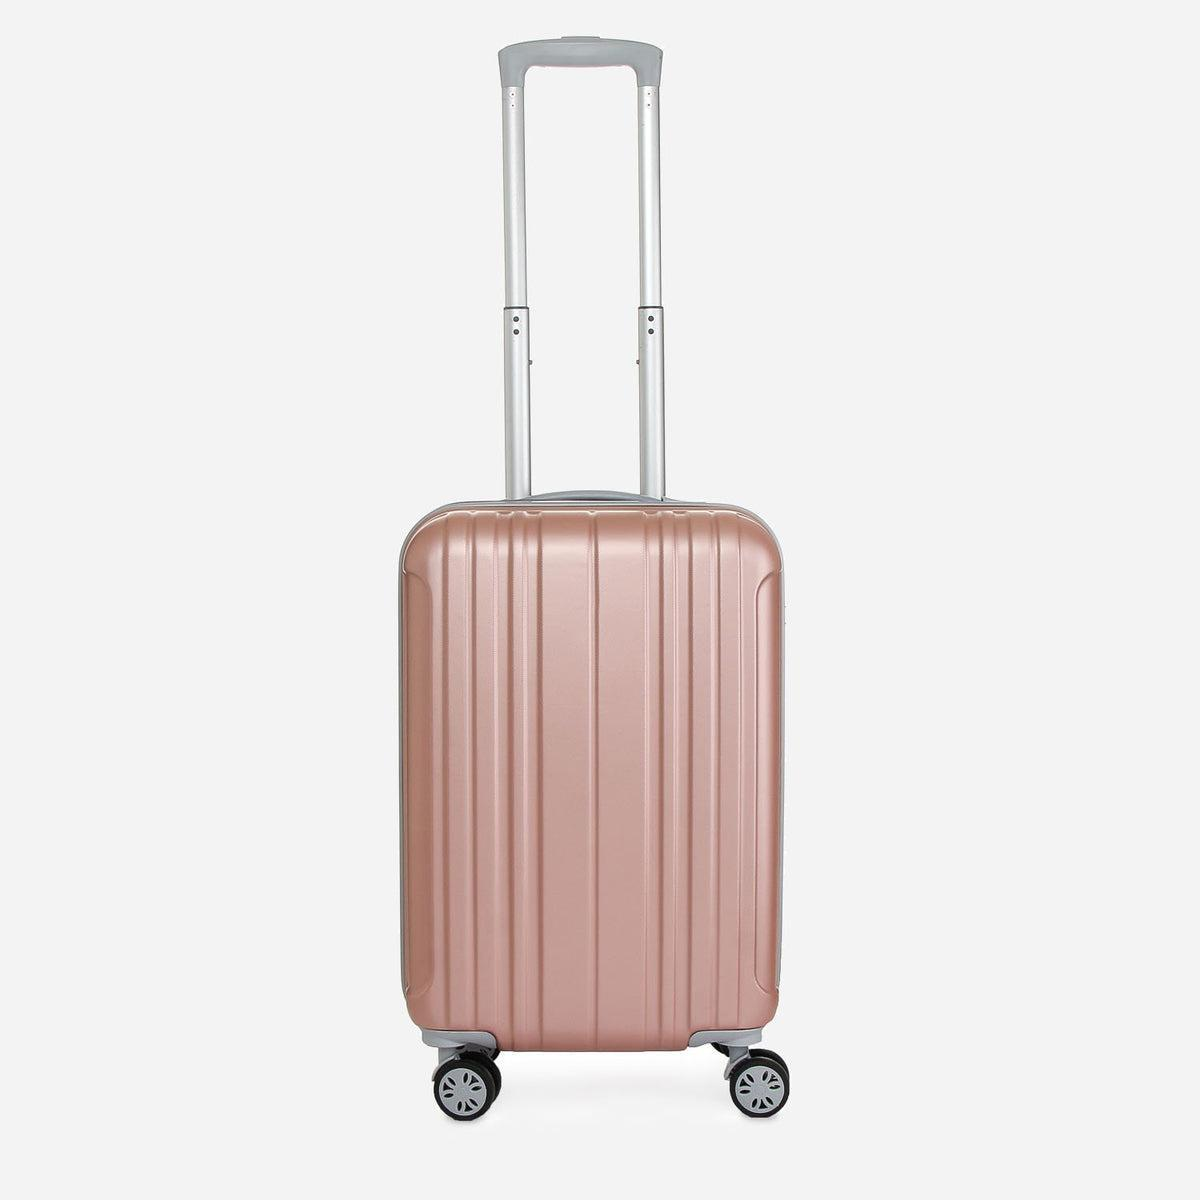suitcase: (386, 476, 803, 1130)
